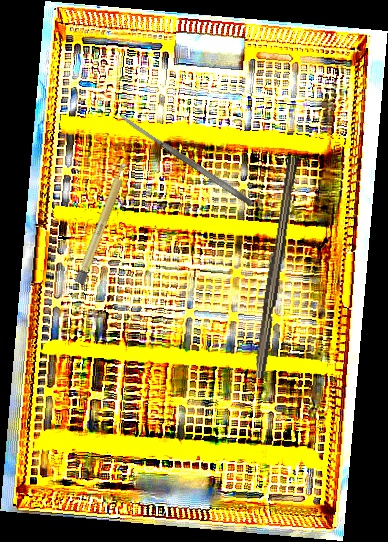Scalpel Handle: (250, 155, 299, 380), (74, 160, 131, 286)
Spatula Surgical: (118, 112, 255, 208)
